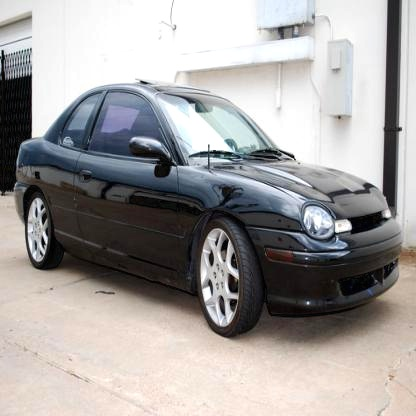Vehicle: (13, 84, 402, 340)
